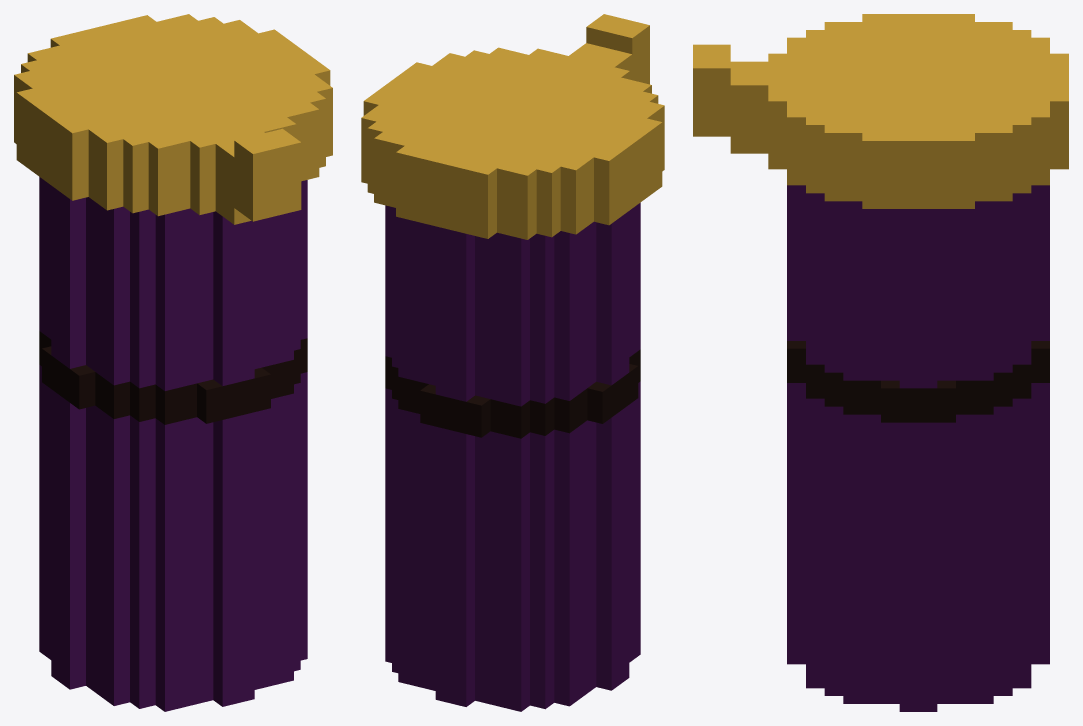
Rendered from cloth_epic_boot_shin_L.glb.
3 renders of one model, left to right at view 1: azimuth 30°, elevation 25°; view 2: azimuth 150°, elevation 25°; view 3: azimuth 270°, elevation 25°, orthographic. The views are drawn at different scales.
Visible parts, largest first — view 1: cloth_epic_boot_shin_L; view 2: cloth_epic_boot_shin_L; view 3: cloth_epic_boot_shin_L.
Boxes of the visible parts, x1,y1,x2,y2 form: cloth_epic_boot_shin_L: (14,14,332,711); cloth_epic_boot_shin_L: (361,14,664,711); cloth_epic_boot_shin_L: (693,14,1068,711).
Size of the model in its own units: 0.192 by 0.42 by 0.24.
